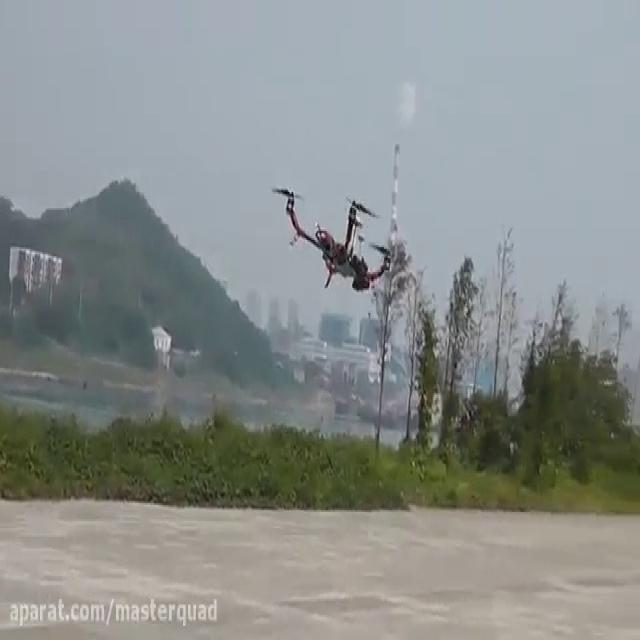drone: (269, 182, 395, 292)
